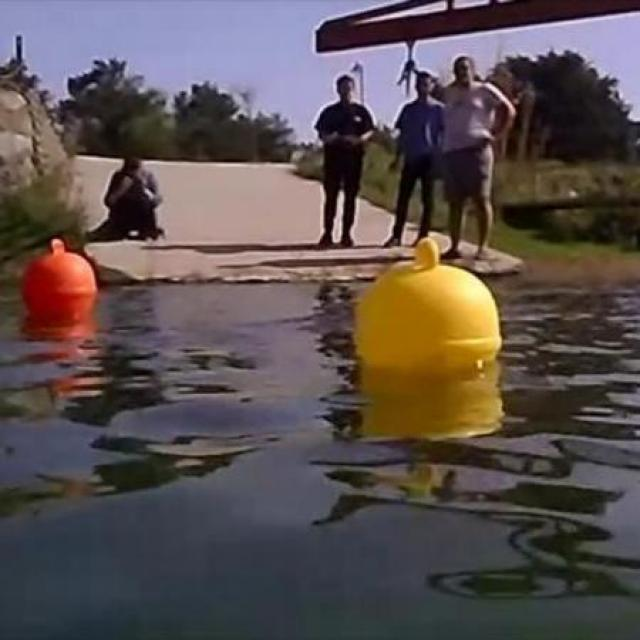buoy: (354, 238, 504, 368), (23, 239, 99, 317)
